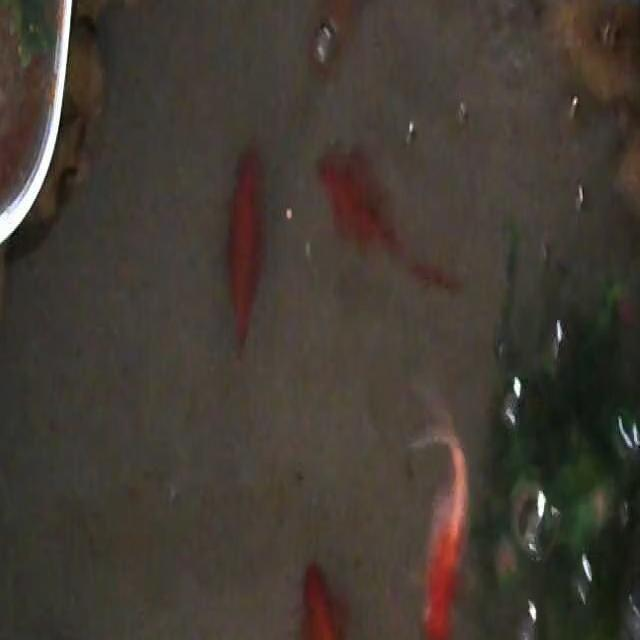fish: (316, 142, 462, 291), (405, 410, 468, 640), (227, 143, 267, 355), (301, 553, 383, 640), (308, 0, 365, 78)
